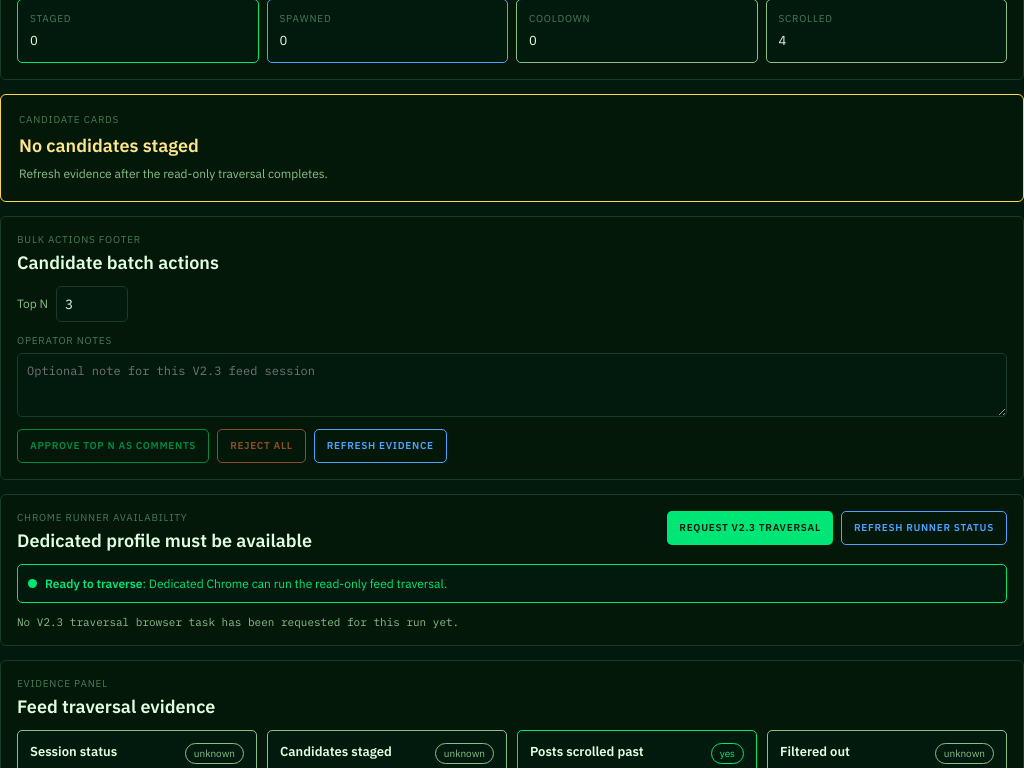
Test: PersonalEngagementV2FeedSessionSurface › requests traversal, posts operator notes, and hides the button after refresh
(page scrolled)
Expected: the button "Request V2.3 traversal" is shown, [667, 511, 833, 545]
Type "Queue this traversal." into the text box with placeholder "Optional note for this V2.3 feed session" at [512, 385], box [17, 353, 1007, 417]
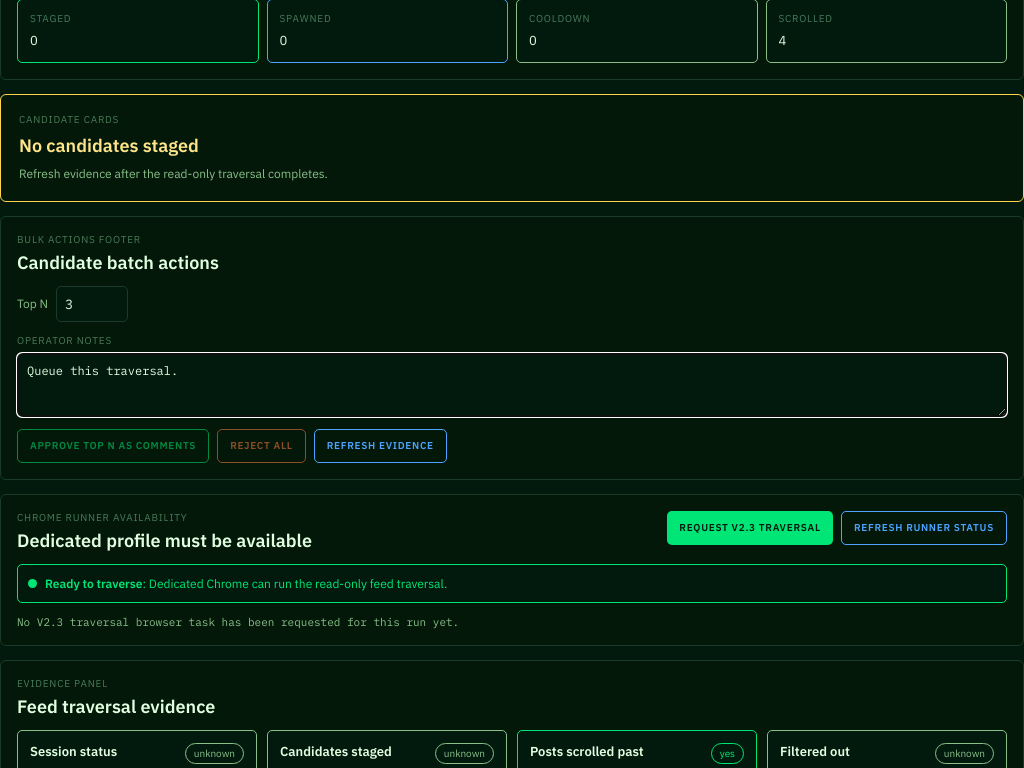
Click the button "Request V2.3 traversal" at [750, 528], box [667, 511, 833, 545]
(page scrolled)
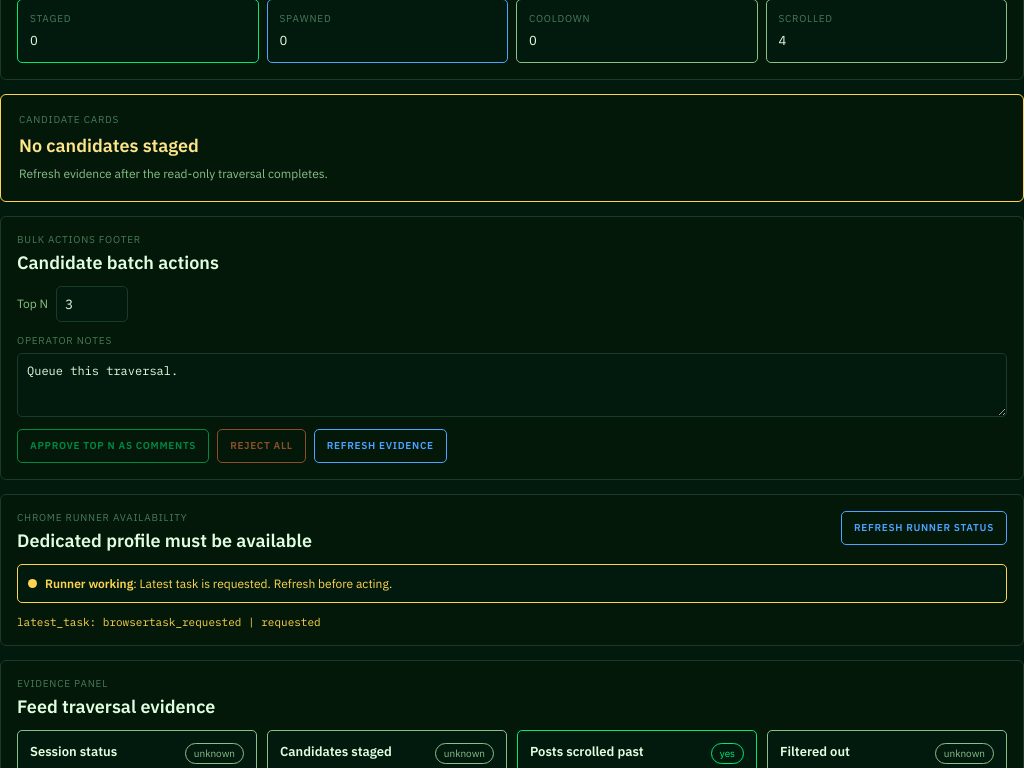
Expected: the text "latest_task: browsertask_requested | requested" is shown, [17, 615, 321, 629]
Expected: the button "Request V2.3 traversal" is gone
